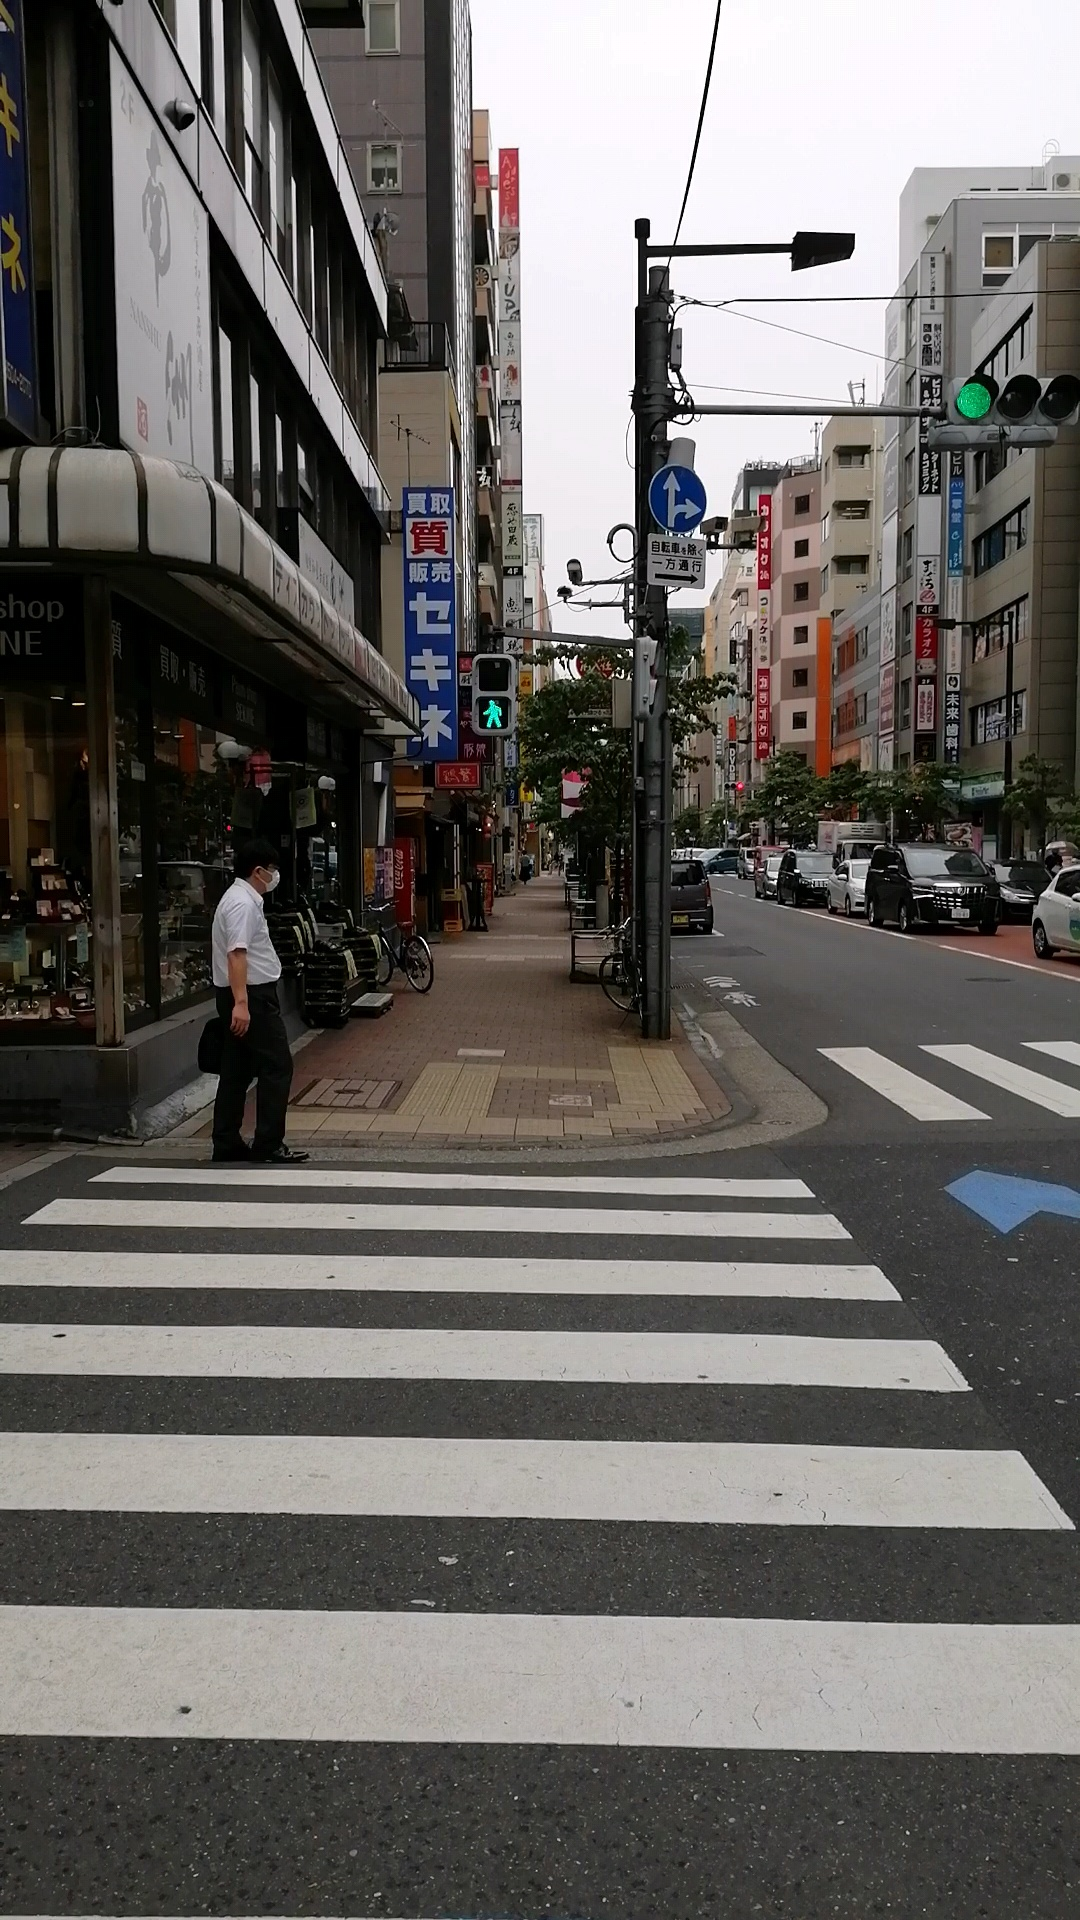green: (468, 651, 516, 735)
